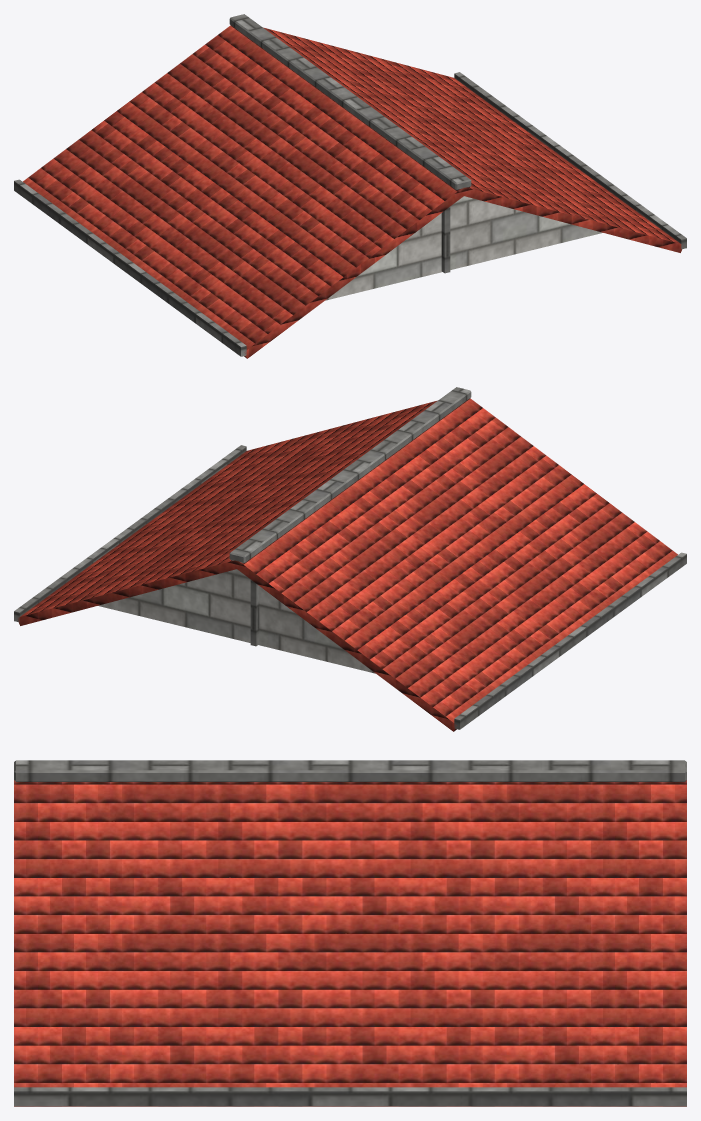
Rendered from roof_bank.glb.
3 views of the same model, one above another, from view 1: azimuth 30°, elevation 25°; view 2: azimuth 150°, elevation 25°; view 3: azimuth 270°, elevation 25° (orthographic). The views are drawn at different scales.
Parts seen in each view (by area): view 1: roof_bank; view 2: roof_bank; view 3: roof_bank.
Boxes of the visible parts, bbox=[...] form: roof_bank: bbox=[14, 14, 686, 358]; roof_bank: bbox=[14, 387, 686, 731]; roof_bank: bbox=[14, 760, 686, 1106].
Bounding box in the file's own units: 9.52 × 2.54 × 8.4.
Materials: 3 (3 with a texture image).
